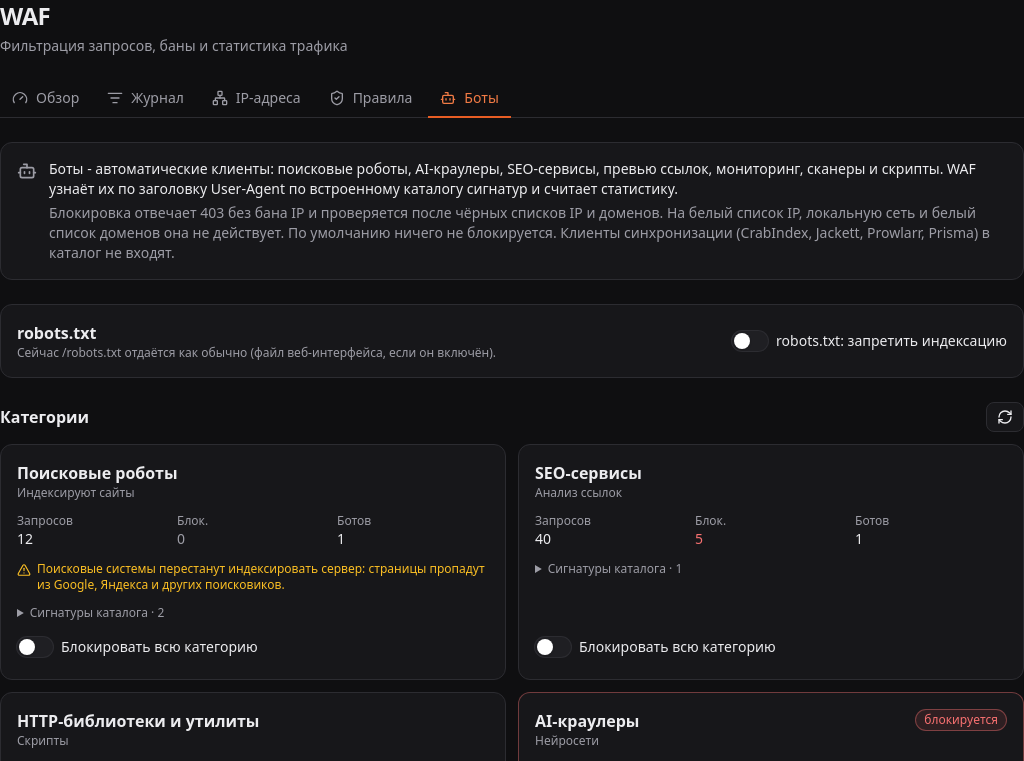
Test case: WAF bots tab › blocks a category after confirmation with the admin header
Step 1. Click the checkbox labelled "Блокировать всю категорию" below "Анализ ссылок" → point(655, 647), box [535,637,776,657]
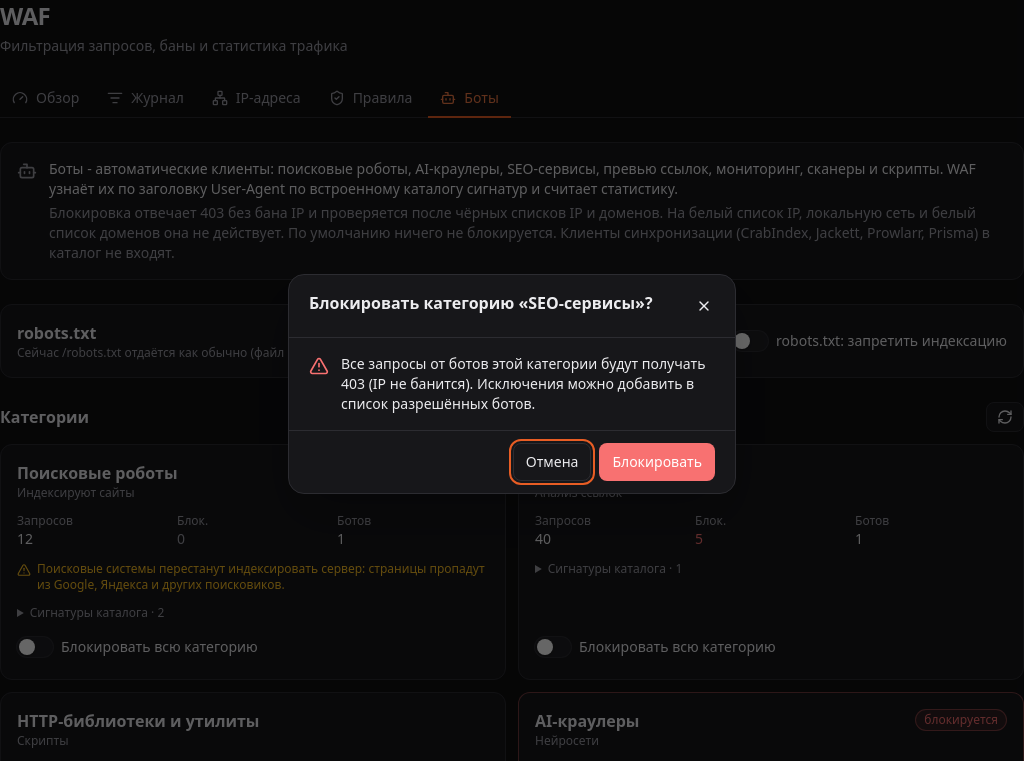
Step 2. Click the button "Блокировать" → point(657, 462), box [599,443,715,481]
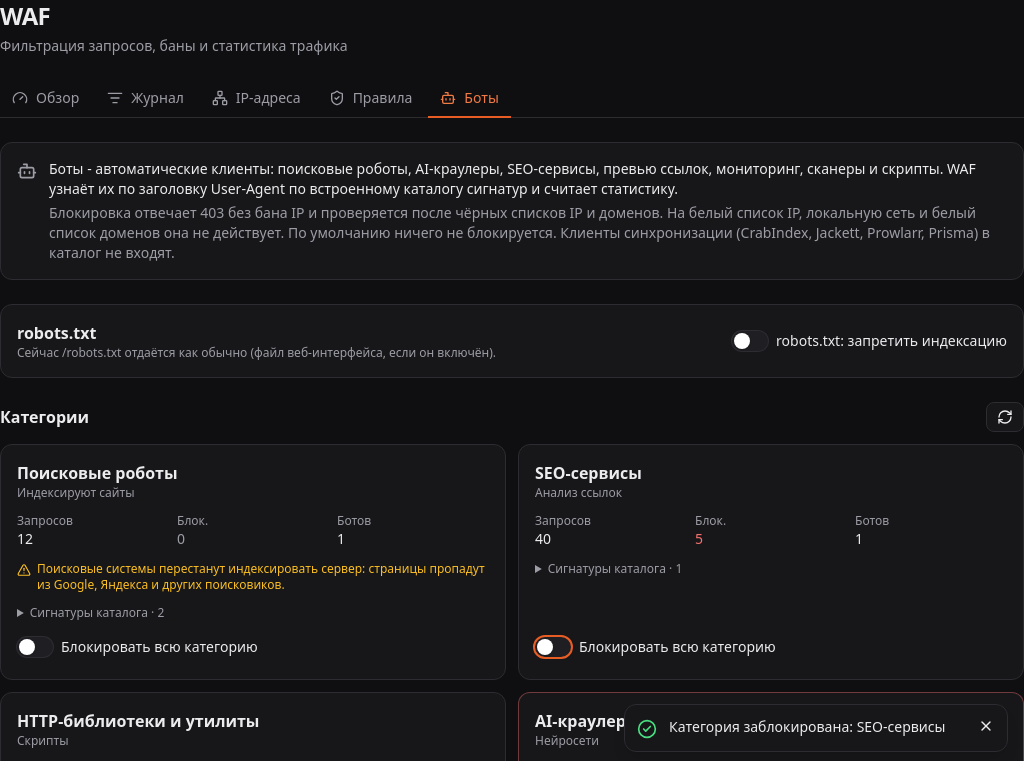
Expected: the text "Категория заблокирована: SEO-сервисы" is shown, [669,717,965,737]
